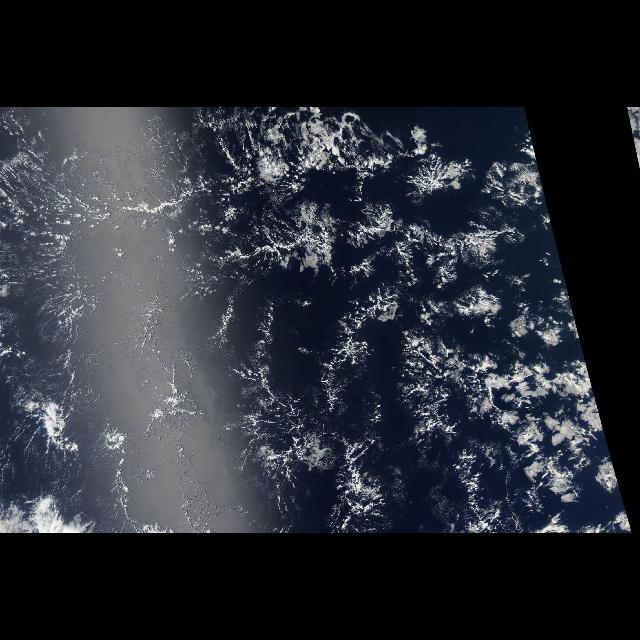Fish: (8, 107, 556, 521)
Flower: (469, 347, 613, 523)
Sugar: (2, 110, 236, 530)
